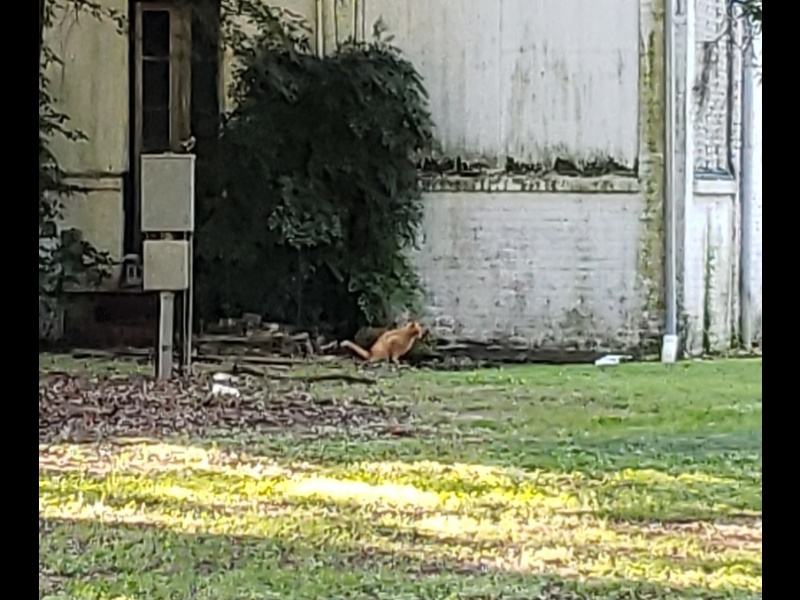cat: (339, 319, 425, 368)
